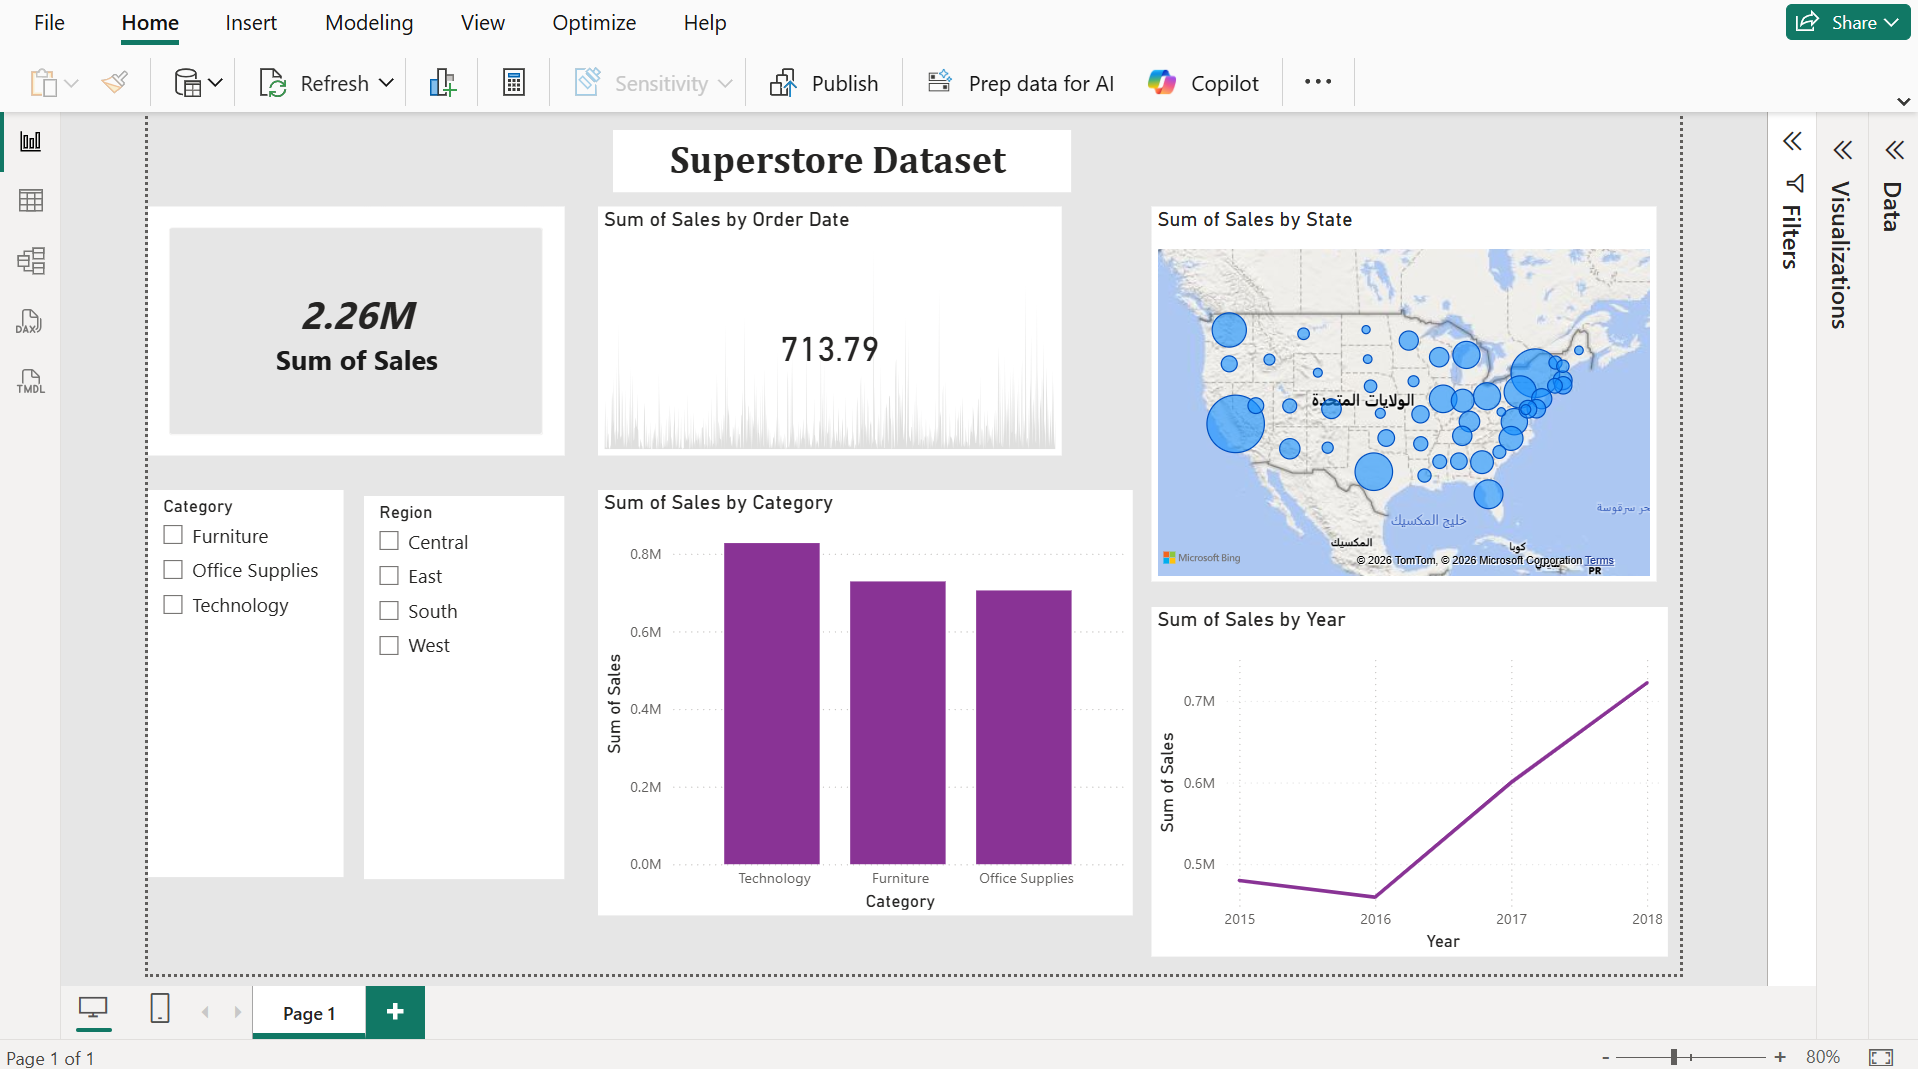

Layout of this report page (visuals, bound fields, positions):
{"tool":"powerbi","page":{"name":"Page 1","canvas":[1280,720],"ordinal":0},"visuals":[{"type":"cardVisual","fields":{"Data":["Sum(train.Sales)"]},"box":[0,79,348,208.2],"z":0},{"type":"clusteredColumnChart","fields":{"Category":["train.Category"],"Y":["Sum(train.Sales)"]},"box":[375.9,315.7,446.8,355.6],"z":3000},{"type":"map","fields":{"Category":["train.State"],"Size":["Sum(train.Sales)"]},"box":[838.2,78.9,421.3,312.9],"z":4000},{"type":"slicer","fields":{"Values":["train.Category"]},"box":[0,316.1,163.6,323.5],"z":5000},{"type":"slicer","fields":{"Values":["train.Region"]},"box":[180.8,320.6,167.3,319.8],"z":6000},{"type":"lineChart","fields":{"Category":["train.Order Date.Variation.Date Hierarchy.Year","train.Order Date.Variation.Date Hierarchy.Quarter","train.Order Date.Variation.Date Hierarchy.Month","train.Order Date.Variation.Date Hierarchy.Day"],"Y":["Sum(train.Sales)"]},"box":[838.8,413.3,431.6,291.8],"z":7000},{"type":"kpi","fields":{"Indicator":["Sum(train.Sales)"],"TrendLine":["train.Order Date"]},"box":[375.9,78.9,387.2,208],"z":8000},{"type":"textbox","box":[388.4,15.1,382.9,52.1],"z":8001}]}

Visuals, with their boxes on the page's 1280x720 design canvas (x1, y1, x2, y2). These are canvas units, not pixel positions in the 1918x1069 screenshot, which may show the page scaled, cropped or inside an application window:
cardVisual - Sum(train.Sales): detection(0, 79, 348, 287)
clusteredColumnChart - train.Category x Sum(train.Sales): detection(376, 316, 823, 671)
map - train.State x Sum(train.Sales): detection(838, 79, 1260, 392)
slicer - train.Category: detection(0, 316, 164, 640)
slicer - train.Region: detection(181, 321, 348, 640)
lineChart - train.Order Date.Variation.Date Hierarchy.Year x train.Order Date.Variation.Date Hierarchy.Quarter: detection(839, 413, 1270, 705)
kpi - Sum(train.Sales) x train.Order Date: detection(376, 79, 763, 287)
textbox: detection(388, 15, 771, 67)
